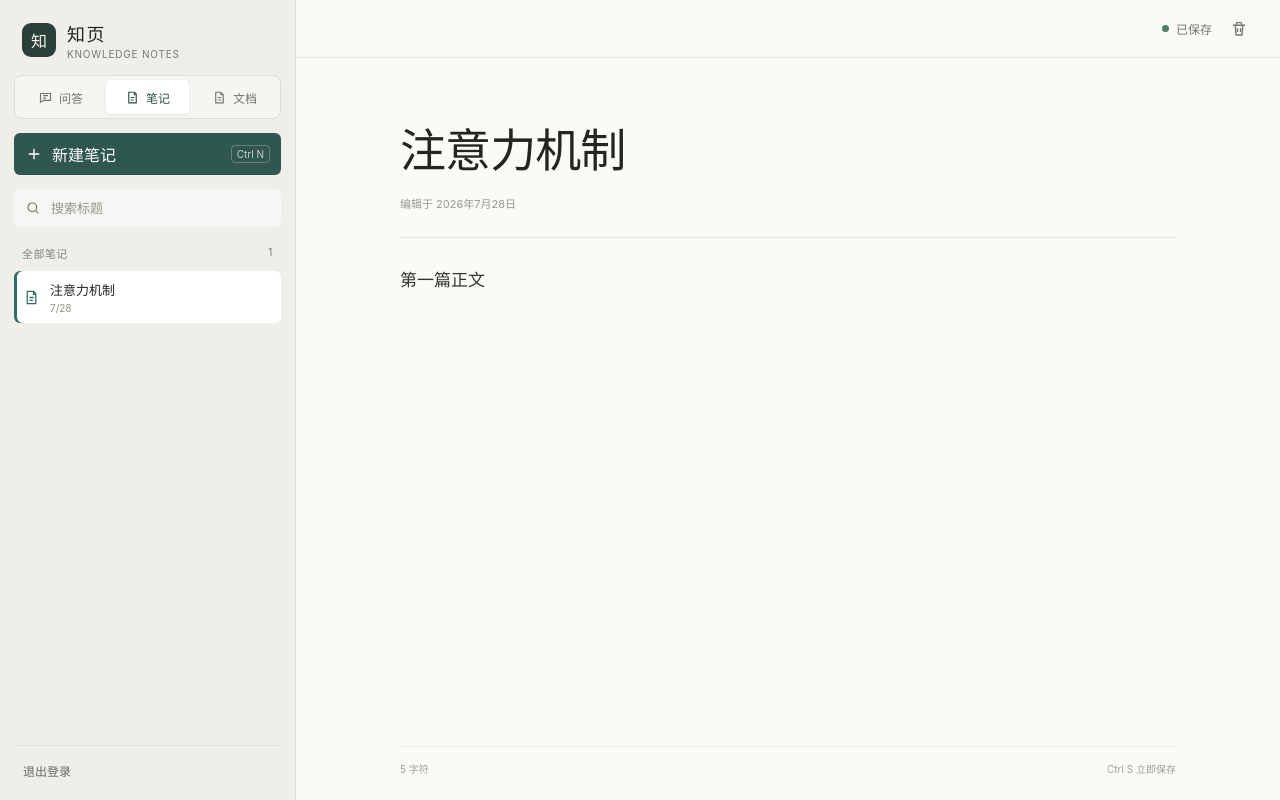
Test: NotesWorkspace 导航前保存 › 保存返回 409 时保留笔记页并展示 发现版本冲突
Replace the text in the text box showing "第一篇正文" with "不能丢失的本地正文" at x=788, y=490, box [400, 265, 1176, 716]
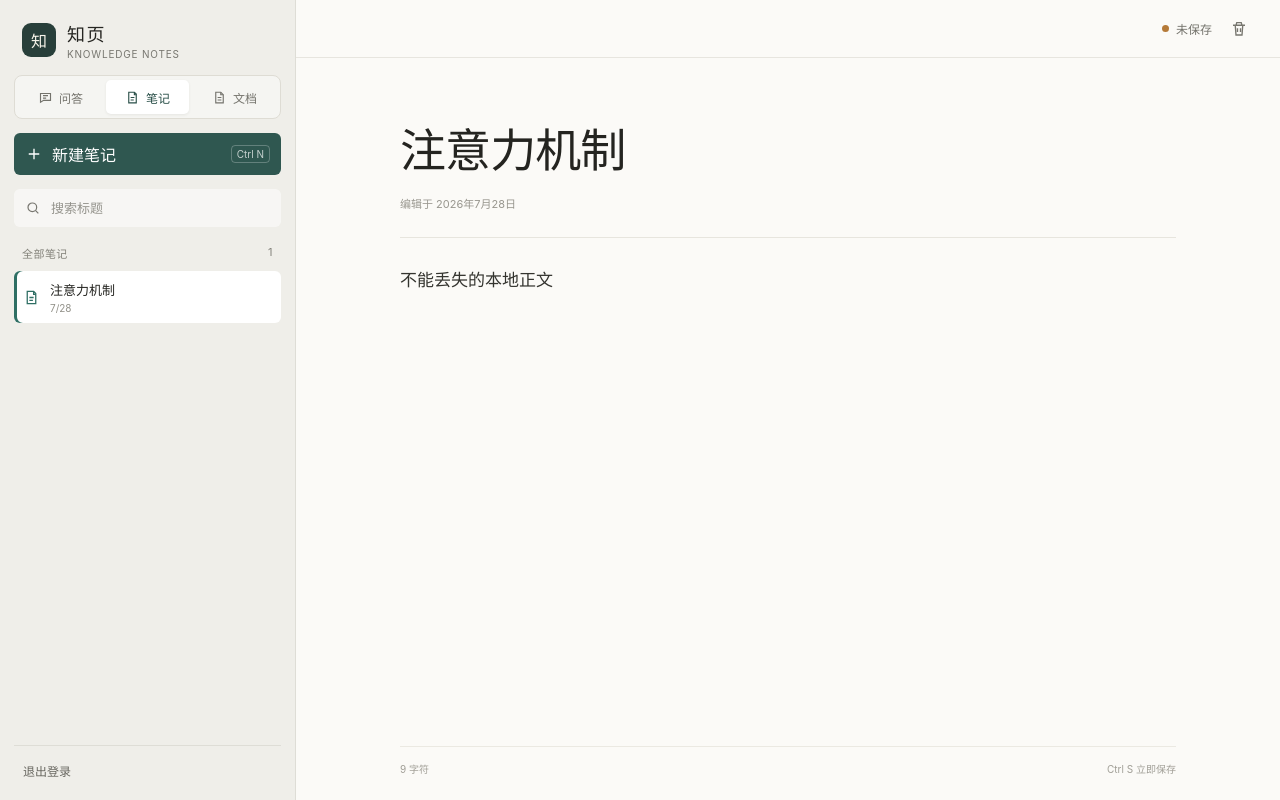
Click the button "问答" at x=60, y=97, box [19, 80, 102, 114]
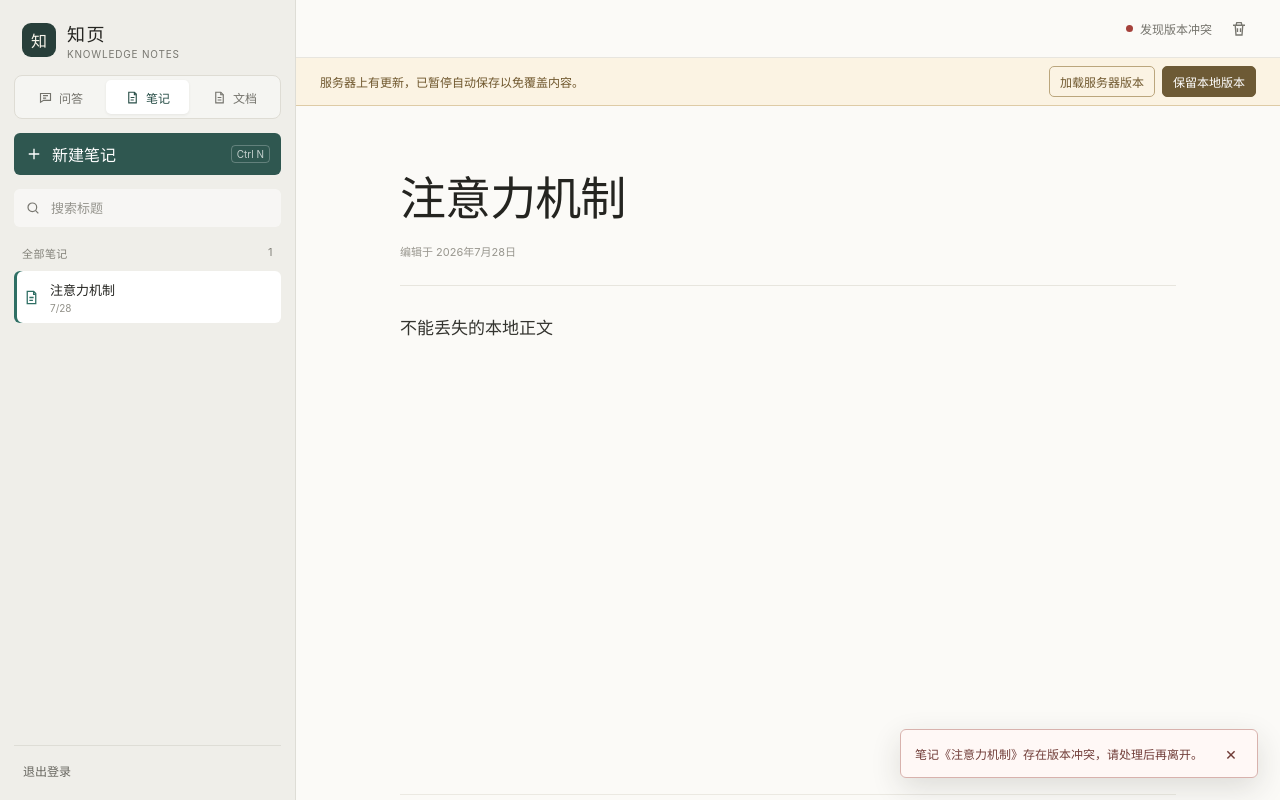
Check: the text "发现版本冲突" is shown, box [1126, 20, 1212, 37]
Check: the text "服务器上有更新，已暂停自动保存以免覆盖内容。" is shown, box [320, 73, 584, 90]
